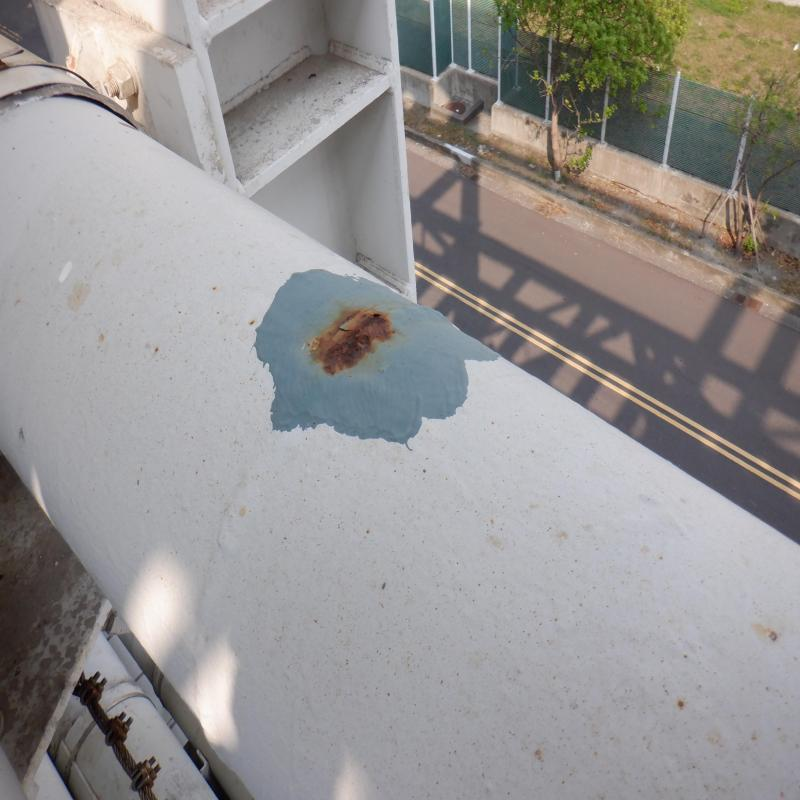corrosion: (309, 302, 397, 372)
